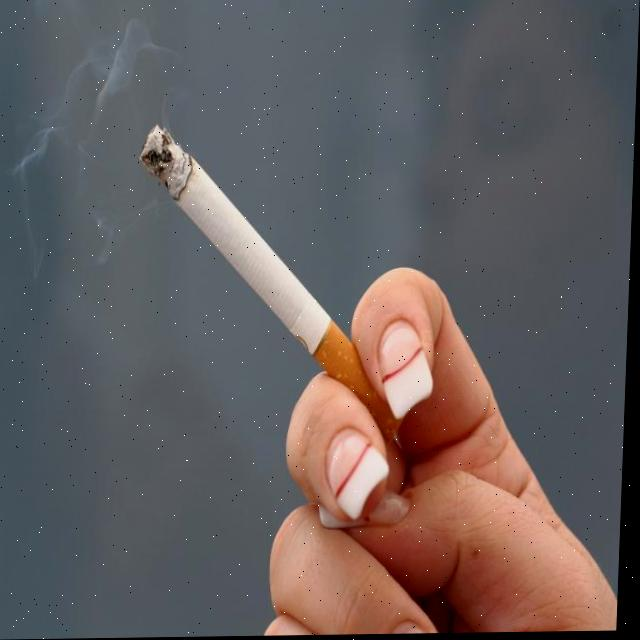cigarette: (134, 122, 360, 376)
